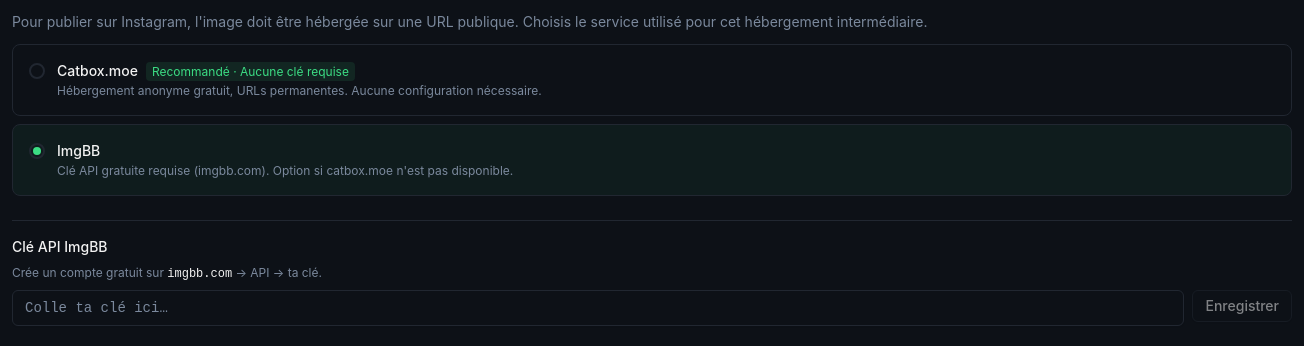
Test case: PublicationForm — sélection ImgBB › le bouton Enregistrer est actif quand une clé est saisie
Expected: the button "Enregistrer" is shown, 1192,290 -> 1292,322
Type "my-imgbb-api-key" into the password field with placeholder "Colle ta clé ici…" at coordinates (598, 308), box 12,290 -> 1184,326
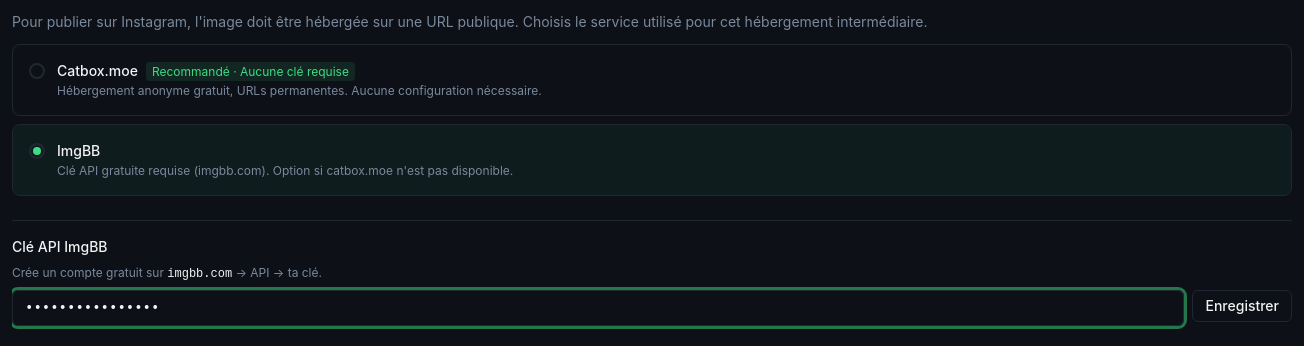
Now the button "Enregistrer" is enabled, box 1192,290 -> 1292,322
